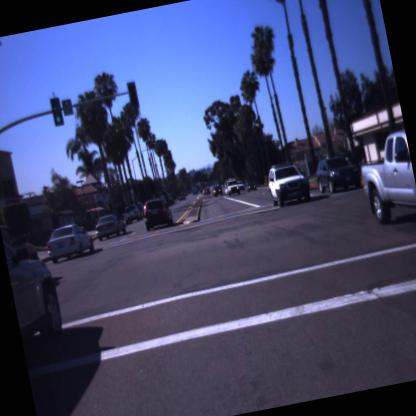trafficlight: (47, 94, 66, 128)
